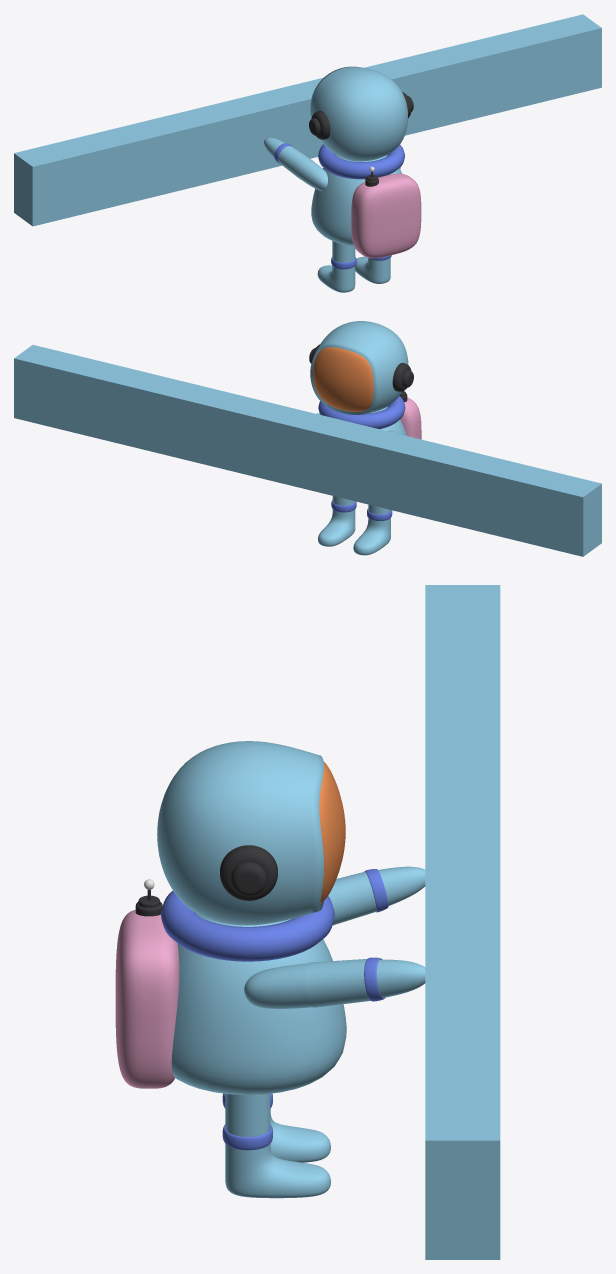
File: PlayerTwo.gltf
3 views of the same model, one above another, from view 1: azimuth 30°, elevation 25°; view 2: azimuth 150°, elevation 25°; view 3: azimuth 270°, elevation 25° (orthographic). The views are drawn at different scales.
Visible parts, largest first — view 1: Cube.010, Cube, Cube.007, Cube.002, Cube.003, Torus, Cube.005, Cylinder.001; view 2: Cube.010, Cube, Cube.001, Cube.003, Torus, Cube.007, Cylinder.001, Cube.004; view 3: Cube.010, Cube, Cube.002, Cube.007, Cube.005, Cube.003, Torus, Cylinder.001, Cube.001, Cube.006.
Boxes of the visible parts, left/top/right/bottom form: Cube.010: left=14, top=14, right=601, bottom=226; Cube: left=310, top=66, right=407, bottom=161; Cube.007: left=351, top=173, right=421, bottom=258; Cube.002: left=311, top=155, right=402, bottom=245; Cube.003: left=317, top=241, right=390, bottom=292; Torus: left=318, top=144, right=404, bottom=179; Cube.005: left=264, top=137, right=400, bottom=190; Cylinder.001: left=309, top=92, right=413, bottom=139; Cube.010: left=14, top=345, right=601, bottom=556; Cube: left=310, top=321, right=408, bottom=414; Cube.001: left=313, top=347, right=373, bottom=411; Cube.003: left=318, top=496, right=390, bottom=555; Torus: left=318, top=396, right=405, bottom=429; Cube.007: left=400, top=397, right=421, bottom=439; Cylinder.001: left=309, top=344, right=413, bottom=391; Cube.004: left=331, top=500, right=392, bottom=520; Cube.010: left=425, top=585, right=500, bottom=1259; Cube: left=157, top=741, right=323, bottom=925; Cube.002: left=171, top=913, right=346, bottom=1095; Cube.007: left=115, top=910, right=179, bottom=1088; Cube.005: left=244, top=866, right=425, bottom=1008; Cube.003: left=225, top=1093, right=330, bottom=1198; Torus: left=161, top=891, right=334, bottom=961; Cylinder.001: left=220, top=845, right=277, bottom=900; Cube.001: left=319, top=761, right=345, bottom=903; Cube.006: left=364, top=869, right=388, bottom=1001.
Bounding box in the file's own units: 7 × 2.48 × 2.05.
